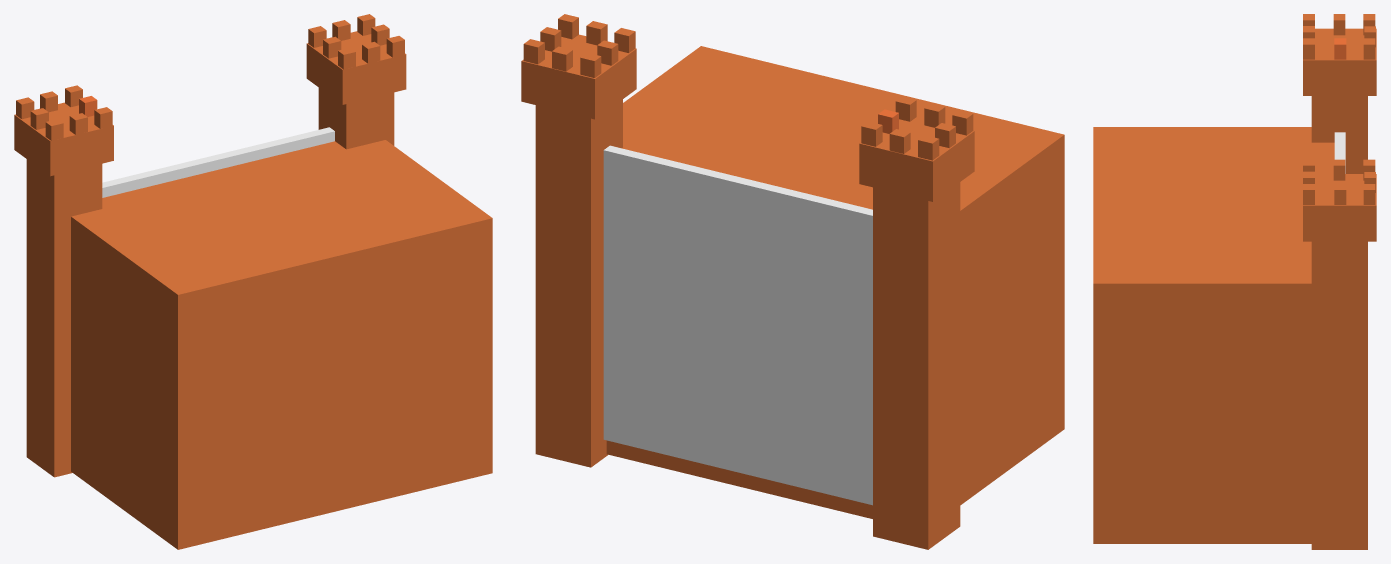
File: mci2MAP.glb
The picture shows the model from 3 angles, left to right: view 1: azimuth 30°, elevation 25°; view 2: azimuth 150°, elevation 25°; view 3: azimuth 270°, elevation 25°; orthographic projection. The views are drawn at different scales.
Visible parts, largest first — view 1: Cube.021, Cube.022, Cube.020, Cube.003, Cube, Cube.002; view 2: Cube, Cube.021, Cube.022, Cube.002, Cube.020, Cube.003; view 3: Cube.021, Cube.002, Cube.020, Cube.003, Cube.022.
Boxes of the visible parts, x1,y1,x2,y2 form: Cube.021: [71, 140, 492, 549]; Cube.022: [26, 159, 102, 477]; Cube.020: [306, 31, 406, 104]; Cube.003: [14, 102, 113, 176]; Cube: [102, 127, 334, 197]; Cube.002: [318, 88, 394, 149]; Cube: [603, 145, 872, 505]; Cube.021: [606, 46, 1064, 518]; Cube.022: [873, 182, 960, 549]; Cube.002: [535, 99, 622, 467]; Cube.020: [521, 34, 636, 119]; Cube.003: [859, 117, 974, 201]; Cube.021: [1093, 127, 1334, 543]; Cube.002: [1311, 241, 1367, 549]; Cube.020: [1303, 174, 1376, 241]; Cube.003: [1303, 28, 1376, 95]; Cube.022: [1311, 96, 1367, 173].
Size of what is drawn, in the model's own units: 14.88 by 14.21 by 10.05.
